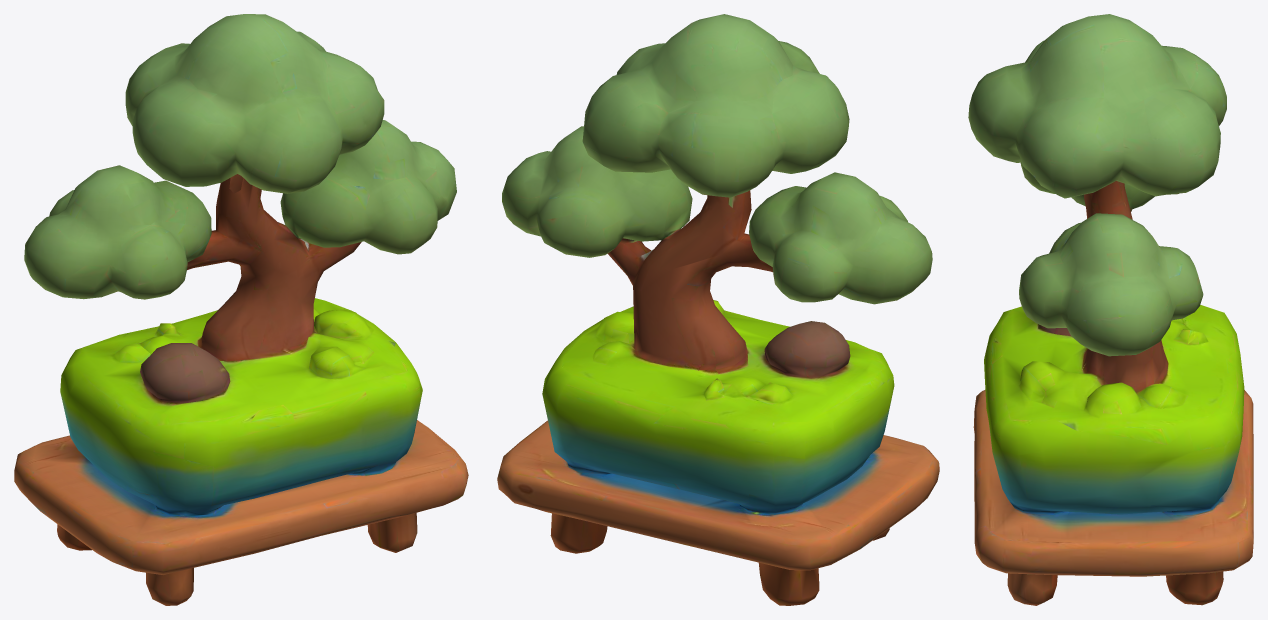
The picture shows the model from 3 angles, left to right: view 1: azimuth 30°, elevation 25°; view 2: azimuth 150°, elevation 25°; view 3: azimuth 270°, elevation 25°; orthographic projection. The views are drawn at different scales.
Visible parts, largest first — view 1: bonsai; view 2: bonsai; view 3: bonsai.
Part boxes in pixels (x1,y1,x2,y2): bonsai: [14, 14, 468, 605]; bonsai: [497, 14, 939, 605]; bonsai: [968, 14, 1253, 605].
Size of the model in its own units: 0.7521 by 0.9 by 0.4414.
Materials: 1 (1 with a texture image).
